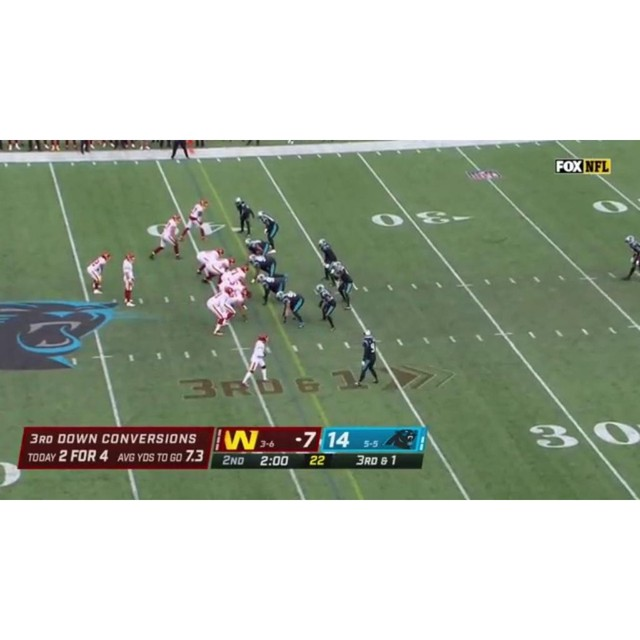american-football-player: (240, 334, 271, 387), (149, 213, 183, 261), (206, 288, 235, 336), (328, 262, 356, 309), (180, 198, 209, 241), (357, 330, 379, 386), (314, 284, 337, 332), (87, 251, 112, 294), (257, 273, 287, 306), (278, 291, 305, 327), (317, 238, 339, 282), (195, 247, 224, 279), (258, 210, 280, 251), (248, 255, 278, 284), (234, 197, 255, 236), (122, 252, 137, 306), (221, 265, 249, 288), (244, 238, 272, 261)
referee: (622, 235, 640, 282)
